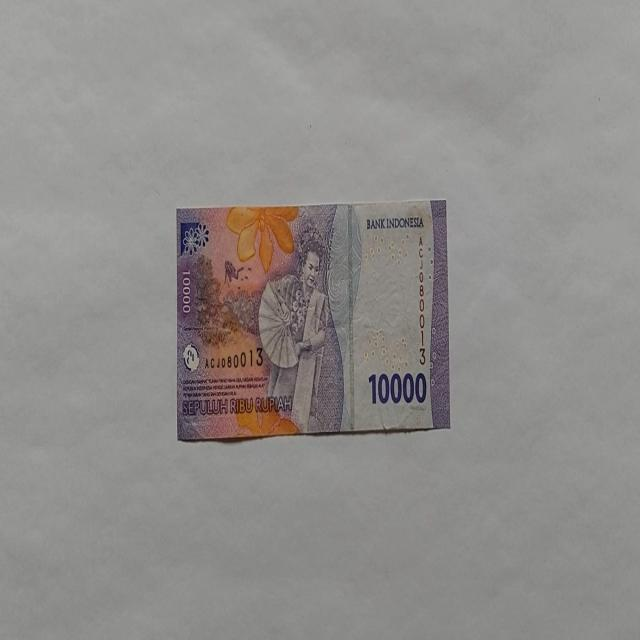sepuluh ribu rupiah: (175, 199, 450, 442)
